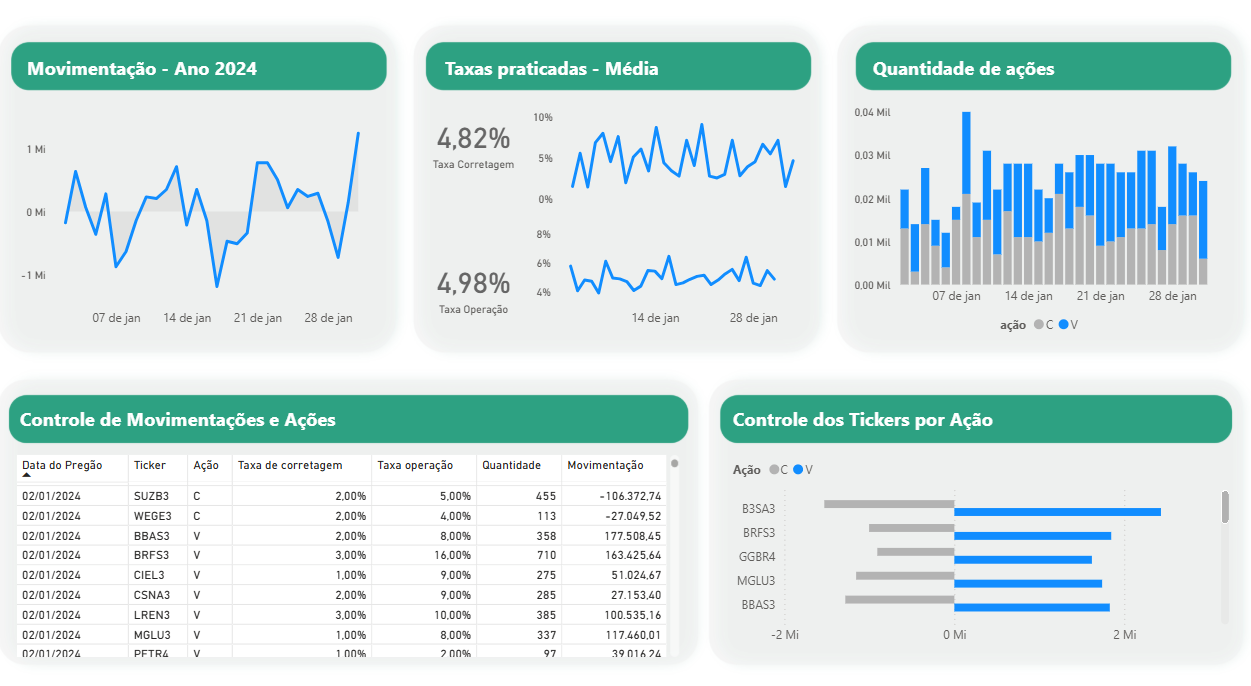

The page's visual inventory and layout, read from the dashboard file:
{"tool":"powerbi","page":{"name":"Página 1","canvas":[1280,720],"ordinal":0},"visuals":[{"type":"lineChart","title":"Movimentação","fields":{"Y":["analytics gold_fatura_jornada.total_movimentacao"],"Category":["analytics gold_fatura_jornada.data_de_pregão"]},"box":[24.2,113.1,376.8,235.4],"z":0},{"type":"columnChart","title":"Quantidade de Ativos","fields":{"Category":["analytics gold_fatura_jornada.data_de_pregão"],"Y":["CountNonNull(analytics gold_fatura_jornada.ação)"],"Series":["analytics gold_fatura_jornada.ação"]},"box":[866.8,108.1,389,246.5],"z":1},{"type":"textbox","box":[453.6,59.6,329.3,38.4],"z":2},{"type":"textbox","box":[31.3,59.6,329.3,38.4],"z":3},{"type":"textbox","box":[24.2,414.2,329.3,38.4],"z":4},{"type":"textbox","box":[886,59.6,329.3,38.4],"z":5},{"type":"textbox","box":[744.6,414.2,329.3,38.4],"z":6},{"type":"tableEx","title":"Quantidade de Ativos","fields":{"Values":["analytics gold_fatura_jornada.data_de_pregão","analytics gold_fatura_jornada.ticker","analytics gold_fatura_jornada.ação","Sum(analytics gold_fatura_jornada.taxa_corretagem)","Sum(analytics gold_fatura_jornada.taxa_operação)","analytics gold_fatura_jornada.total_qtde","analytics gold_fatura_jornada.total_movimentacao"]},"box":[20.2,463.7,679.9,214.2],"z":7},{"type":"clusteredBarChart","fields":{"Category":["analytics gold_fatura_jornada.ticker"],"Series":["analytics gold_fatura_jornada.ação"],"Y":["Sum(analytics gold_fatura_jornada.movimentação)"]},"box":[744.6,463.7,511.2,205.1],"z":8},{"type":"card","fields":{"Values":["Avg(analytics gold_fatura_jornada.taxa_corretagem)"]},"box":[433.4,108.1,108.1,89.9],"z":9},{"type":"card","fields":{"Values":["Avg(analytics gold_fatura_jornada.taxa_operação)"]},"box":[443.5,259.6,87.9,79.8],"z":10},{"type":"lineChart","fields":{"Y":["Avg(analytics gold_fatura_jornada.taxa_corretagem)"],"Category":["analytics gold_fatura_jornada.data_de_pregão"]},"box":[541.5,113.1,283.9,109.1],"z":11},{"type":"lineChart","fields":{"Y":["Avg(analytics gold_fatura_jornada.taxa_operação)"],"Category":["analytics gold_fatura_jornada.data_de_pregão.Variation.Hierarquia de datas.Ano","analytics gold_fatura_jornada.data_de_pregão.Variation.Hierarquia de datas.Trimestre","analytics gold_fatura_jornada.data_de_pregão.Variation.Hierarquia de datas.Mês","analytics gold_fatura_jornada.data_de_pregão.Variation.Hierarquia de datas.Dia"]},"box":[545.5,231.3,275.8,117.2],"z":12}]}

Visuals, with their boxes in screenshot pixels (x1, y1, x2, y2), scaled from the page's 1280x720 canvas onto the 1251x686 screenshot:
"Movimentação" lineChart: detection(24, 108, 392, 332)
"Quantidade de Ativos" columnChart: detection(847, 103, 1227, 338)
textbox: detection(443, 57, 765, 93)
textbox: detection(31, 57, 352, 93)
textbox: detection(24, 395, 345, 431)
textbox: detection(866, 57, 1188, 93)
textbox: detection(728, 395, 1050, 431)
"Quantidade de Ativos" tableEx: detection(20, 442, 684, 646)
clusteredBarChart - analytics gold_fatura_jornada.ticker x analytics gold_fatura_jornada.ação: detection(728, 442, 1227, 637)
card - Avg(analytics gold_fatura_jornada.taxa_corretagem): detection(424, 103, 529, 189)
card - Avg(analytics gold_fatura_jornada.taxa_operação): detection(433, 247, 519, 323)
lineChart - Avg(analytics gold_fatura_jornada.taxa_corretagem) x analytics gold_fatura_jornada.data_de_pregão: detection(529, 108, 807, 212)
lineChart - Avg(analytics gold_fatura_jornada.taxa_operação) x analytics gold_fatura_jornada.data_de_pregão.Variation.Hierarquia de datas.Ano: detection(533, 220, 803, 332)
